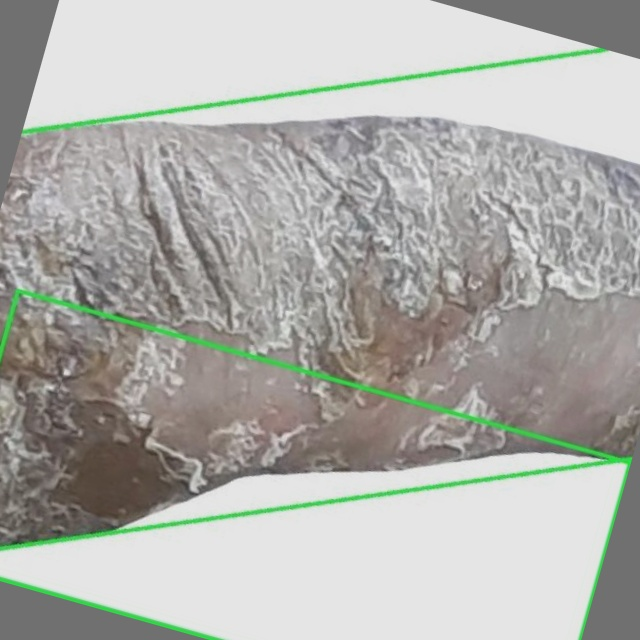Eczema: (0, 77, 639, 537), (0, 291, 630, 639)
